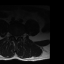CCS_stenosis: (15, 34, 17, 40)
LFS_severe_stenosis: (18, 34, 20, 38)
LLS_stenosis: (17, 34, 18, 39)
RFS_severe_stenosis: (12, 33, 14, 37)
RLS_stenosis: (14, 34, 15, 39)
